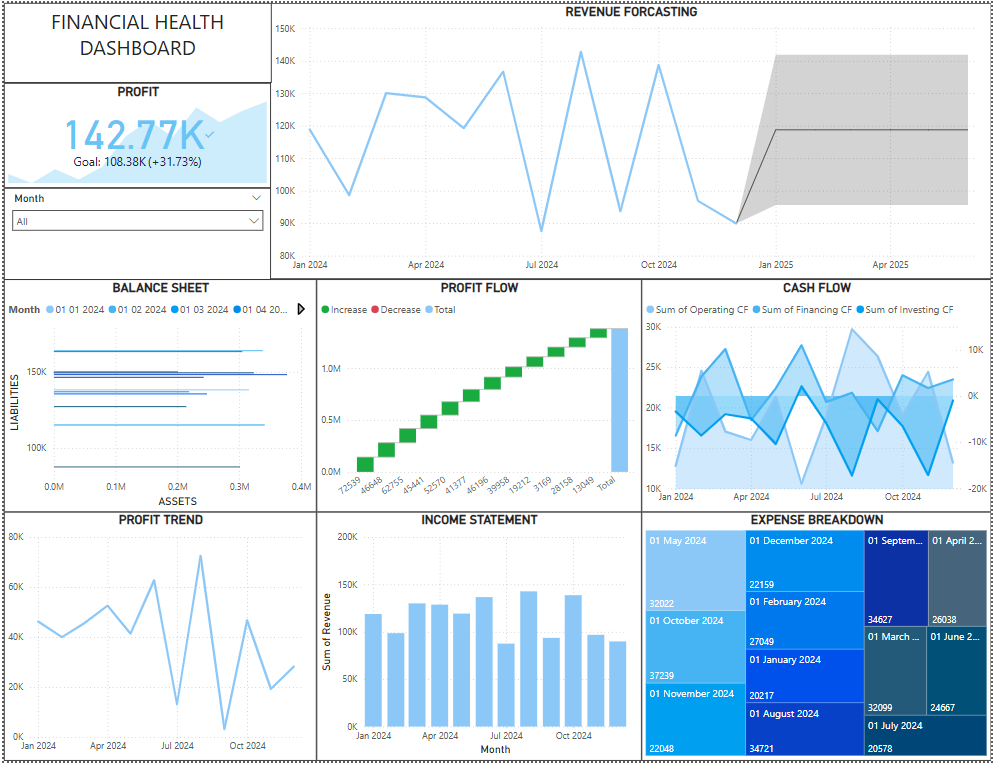

What the dashboard file says about the page in this screenshot:
{"tool":"powerbi","page":{"name":"Page 1","canvas":[1279,910],"ordinal":0},"visuals":[{"type":"kpi","title":"PROFIT","fields":{"TrendLine":["Income Statement.Net Profit"],"Goal":["Sum(Budget Forecast.Expected Revenue)"],"Indicator":["Sum(Income Statement.Revenue)"]},"box":[0,106.2,356.6,139.7],"z":0},{"type":"lineChart","title":"PROFIT TREND","fields":{"Category":["Income Statement.Month"],"Y":["Sum(Income Statement.Net Profit)"]},"box":[0,628.7,416.2,280.9],"z":1000},{"type":"columnChart","title":"INCOME STATEMENT","fields":{"Category":["Income Statement.Month"],"Y":["Sum(Income Statement.Revenue)"]},"box":[416.2,628.7,433.7,280.9],"z":2000},{"type":"treemap","title":"EXPENSE BREAKDOWN","fields":{"Group":["Income Statement.Month"],"Details":["Income Statement.Operating Expenses"],"Values":["Sum(Budget Forecast.Expected Expenses)"]},"box":[850,628.7,429.3,280.9],"z":3000},{"type":"waterfallChart","title":"PROFIT FLOW","fields":{"Category":["Income Statement.Net Profit"],"Y":["Sum(Income Statement.Revenue)"]},"box":[416.2,368.2,433.7,260.5],"z":4000},{"type":"barChart","title":"BALANCE SHEET","fields":{"Category":["Balance Sheet.Liabilities"],"Y":["Sum(Balance Sheet.Assets)"],"Series":["Balance Sheet.Month"]},"box":[0,368.2,416.2,260.5],"z":5000},{"type":"areaChart","title":"CASH FLOW","fields":{"Y":["Sum(Cash Flow.Operating CF)"],"Category":["Cash Flow.Month"],"Y2":["Sum(Cash Flow.Financing CF)","Sum(Cash Flow.Investing CF)"]},"box":[850,368.2,429.3,260.5],"z":6000},{"type":"slicer","fields":{"Values":["Cash Flow.Month"]},"box":[0,246,356.6,122.3],"z":7000},{"type":"lineChart","title":"REVENUE FORCASTING","fields":{"Category":["Income Statement.Month"],"Y":["Sum(Income Statement.Revenue)"]},"box":[355,0,923.3,368.3],"z":8000},{"type":"textbox","box":[0,0,356.6,106.2],"z":9000}]}

Visuals, with their boxes on the page's 1279x910 design canvas (x1, y1, x2, y2). These are canvas units, not pixel positions in the 994x763 screenshot, which may show the page scaled, cropped or inside an application window:
"PROFIT" kpi: select_region(0, 106, 357, 246)
"PROFIT TREND" lineChart: select_region(0, 629, 416, 910)
"INCOME STATEMENT" columnChart: select_region(416, 629, 850, 910)
"EXPENSE BREAKDOWN" treemap: select_region(850, 629, 1279, 910)
"PROFIT FLOW" waterfallChart: select_region(416, 368, 850, 629)
"BALANCE SHEET" barChart: select_region(0, 368, 416, 629)
"CASH FLOW" areaChart: select_region(850, 368, 1279, 629)
slicer - Cash Flow.Month: select_region(0, 246, 357, 368)
"REVENUE FORCASTING" lineChart: select_region(355, 0, 1278, 368)
textbox: select_region(0, 0, 357, 106)
